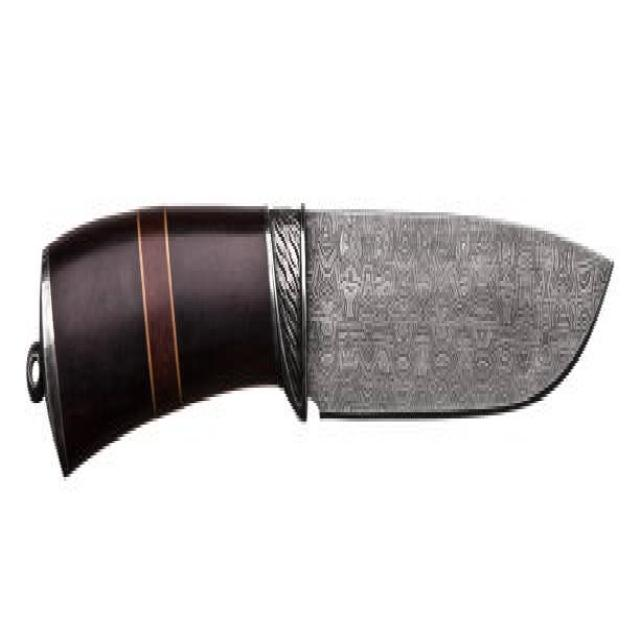knife: (26, 188, 618, 471)
